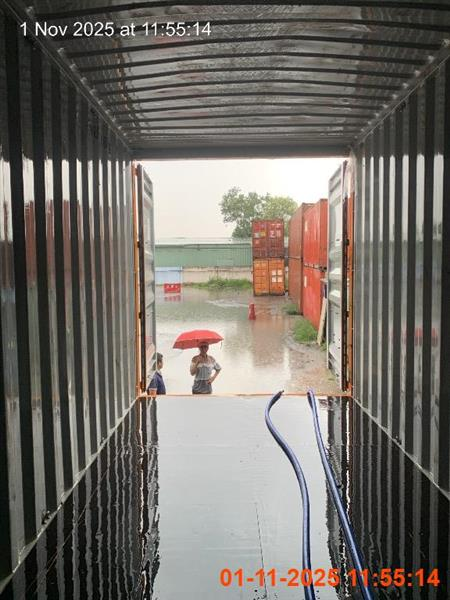crack: (189, 342, 221, 394), (171, 329, 224, 350), (146, 353, 166, 395)
